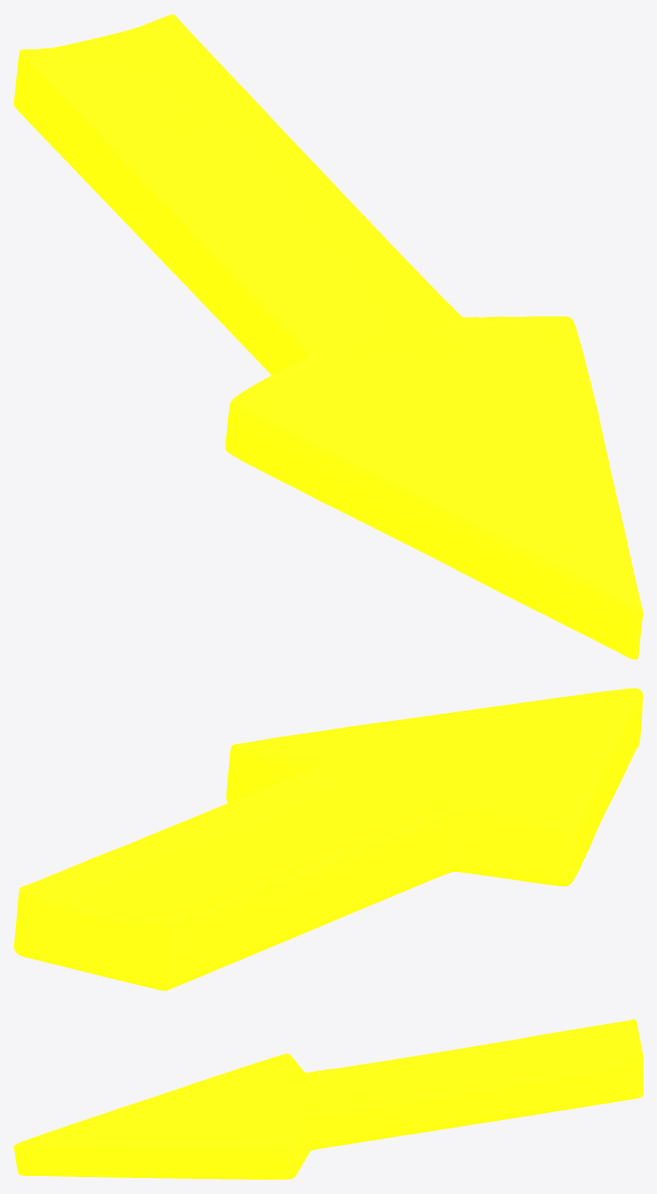
3 renders of one model, top to bottom at view 1: azimuth 30°, elevation 25°; view 2: azimuth 150°, elevation 25°; view 3: azimuth 270°, elevation 25°, orthographic. The views are drawn at different scales.
Parts seen in each view (by area): view 1: Mesh_0.001; view 2: Mesh_0.001; view 3: Mesh_0.001.
Boxes of the visible parts, box(x1,y1,x2,y2) form: Mesh_0.001: box(14, 14, 642, 659); Mesh_0.001: box(14, 688, 642, 990); Mesh_0.001: box(14, 1019, 642, 1179).
Size of the model in its own units: 0.7153 by 0.4681 by 1.98.
